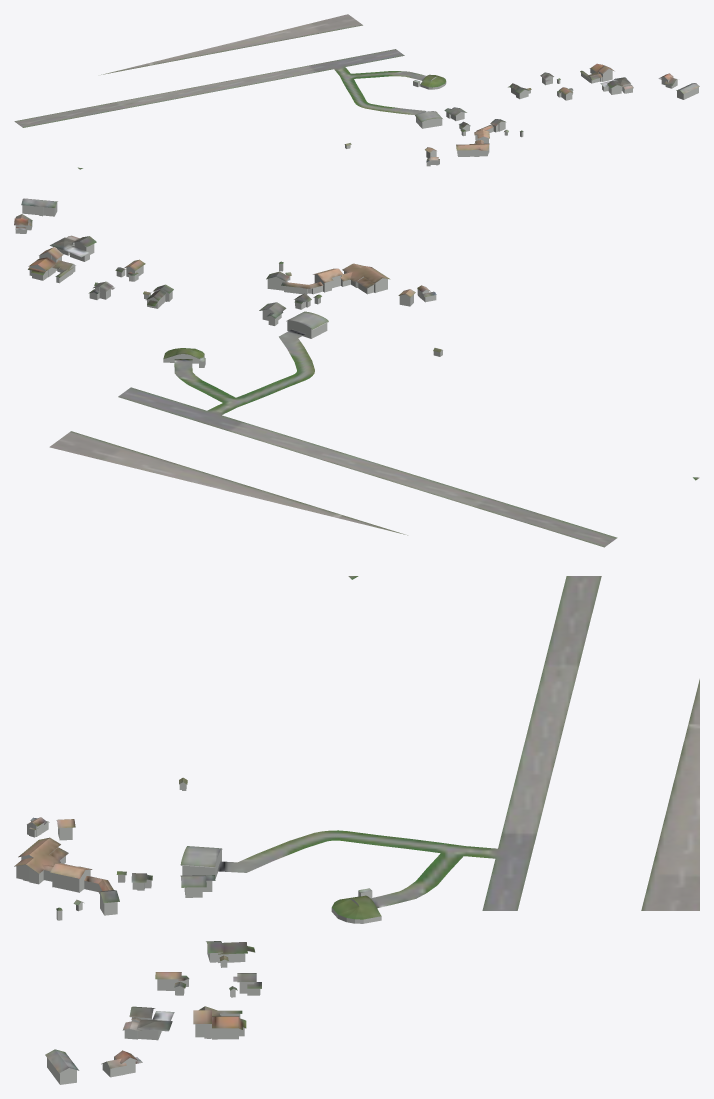
File: LSMM_0_-1.glb
The picture shows the model from 3 angles, top to bottom: view 1: azimuth 30°, elevation 25°; view 2: azimuth 150°, elevation 25°; view 3: azimuth 270°, elevation 25°; orthographic projection. The views are drawn at different scales.
Parts seen in each view (by area): view 1: pavement_LSMM_pavement_5302_2353, building_f3078e6c2f6c9758, building_1895b6bdaa366f70, building_b1fce1bcccaccf9d, building_180c0dffcb748fd8, building_259ed9ba2441c755, building_49b0b3b2e32769e5, building_58068dc0767a6b01; view 2: pavement_LSMM_pavement_5302_2353, building_1895b6bdaa366f70, building_b1fce1bcccaccf9d, building_f3078e6c2f6c9758, building_180c0dffcb748fd8, building_49b0b3b2e32769e5, building_259ed9ba2441c755; view 3: pavement_LSMM_pavement_5302_2353, building_1895b6bdaa366f70, building_b1fce1bcccaccf9d, building_f3078e6c2f6c9758, building_180c0dffcb748fd8, building_49b0b3b2e32769e5, building_58068dc0767a6b01, building_259ed9ba2441c755, building_185f1211fe2cec6f, building_3b65b06e6b0bb93f.
Boxes of the visible parts, x1,y1,x2,y2 form: pavement_LSMM_pavement_5302_2353: [14, 14, 426, 169]; building_f3078e6c2f6c9758: [511, 68, 632, 100]; building_1895b6bdaa366f70: [508, 63, 633, 94]; building_b1fce1bcccaccf9d: [425, 119, 523, 162]; building_180c0dffcb748fd8: [426, 121, 523, 166]; building_259ed9ba2441c755: [416, 112, 469, 136]; building_49b0b3b2e32769e5: [415, 107, 470, 131]; building_58068dc0767a6b01: [413, 74, 445, 87]; pavement_LSMM_pavement_5302_2353: [49, 329, 699, 547]; building_1895b6bdaa366f70: [28, 235, 173, 306]; building_b1fce1bcccaccf9d: [266, 261, 436, 297]; building_f3078e6c2f6c9758: [29, 242, 172, 308]; building_180c0dffcb748fd8: [267, 264, 436, 306]; building_49b0b3b2e32769e5: [259, 293, 328, 330]; building_259ed9ba2441c755: [262, 297, 327, 338]; pavement_LSMM_pavement_5302_2353: [217, 576, 699, 910]; building_1895b6bdaa366f70: [122, 941, 261, 1031]; building_b1fce1bcccaccf9d: [14, 817, 119, 911]; building_f3078e6c2f6c9758: [124, 947, 260, 1040]; building_180c0dffcb748fd8: [16, 821, 117, 920]; building_49b0b3b2e32769e5: [116, 846, 222, 887]; building_58068dc0767a6b01: [331, 888, 381, 919]; building_259ed9ba2441c755: [118, 849, 221, 897]; building_185f1211fe2cec6f: [45, 1049, 142, 1073]; building_3b65b06e6b0bb93f: [47, 1057, 135, 1084].
Bounding box in the file's own units: 756 × 18.51 × 431.
Materials: 3 (2 with a texture image).
